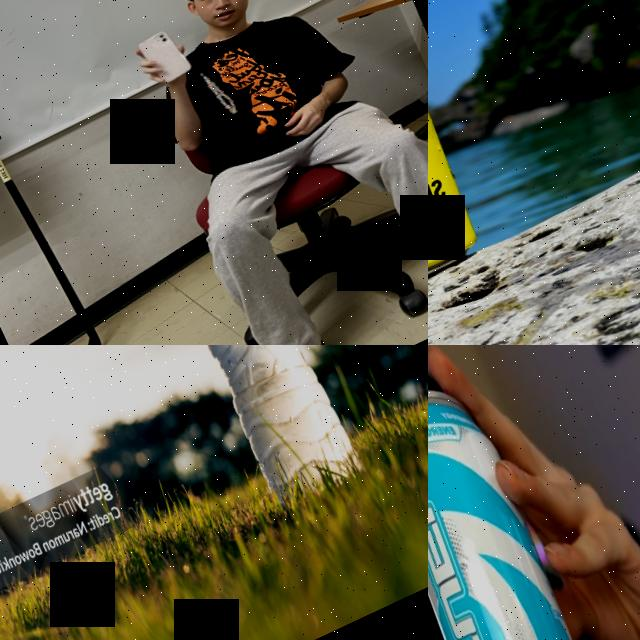bottle: (100, 345, 374, 521)
can: (428, 364, 640, 640), (428, 82, 497, 314)
